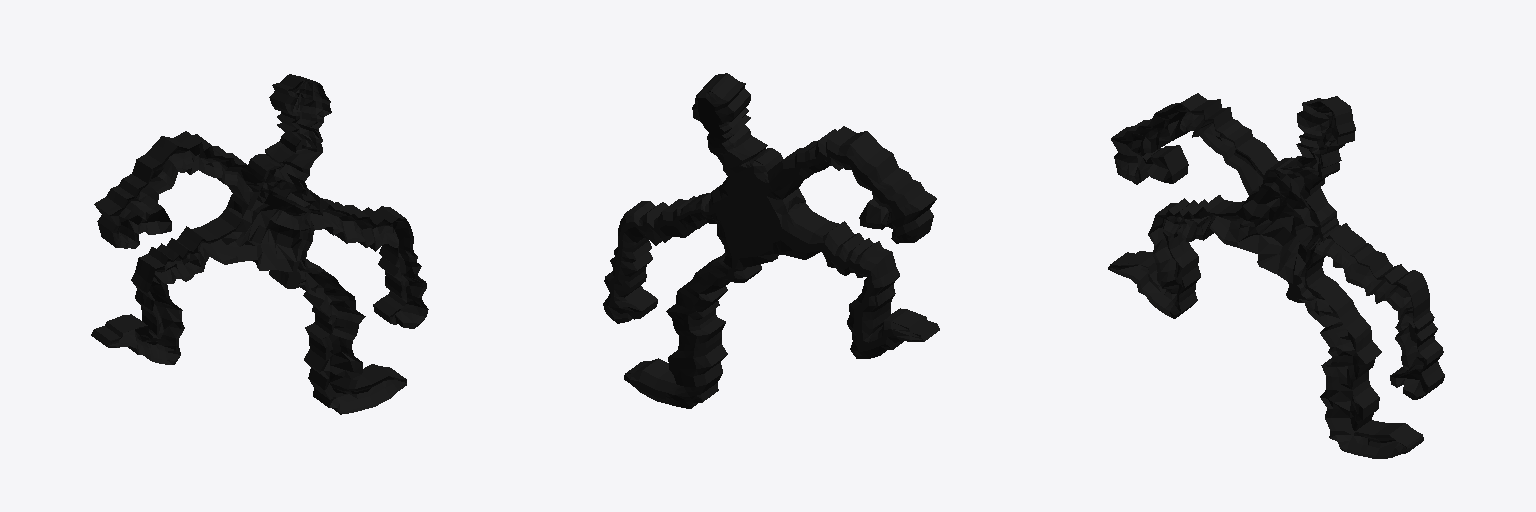
File: Morph.obj
3 views of the same model, side by side, from view 1: azimuth 30°, elevation 25°; view 2: azimuth 150°, elevation 25°; view 3: azimuth 330°, elevation 25° (orthographic).
Visible parts, largest first — view 1: Cube_Cube_001_Material; view 2: Cube_Cube_001_Material; view 3: Cube_Cube_001_Material.
Part boxes in pixels (x1,y1,x2,y2): Cube_Cube_001_Material: (91,74,428,414); Cube_Cube_001_Material: (603,73,939,408); Cube_Cube_001_Material: (1108,93,1444,458).
Bounding box in the file's own units: 0.8776 × 0.8808 × 0.1347.